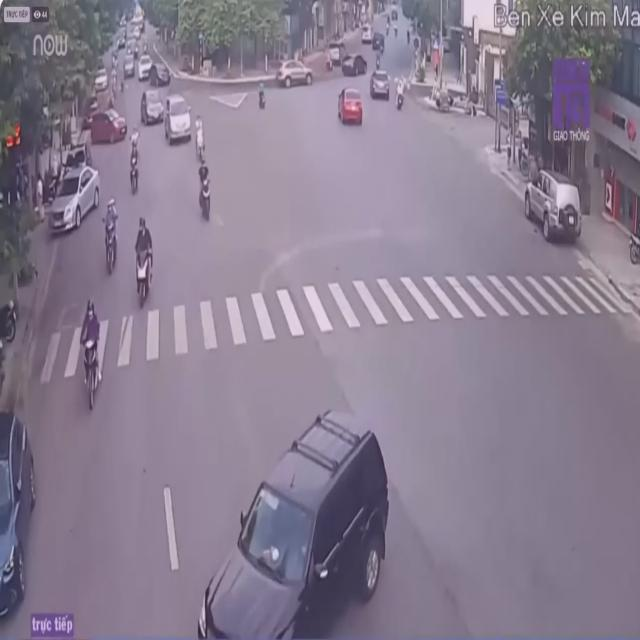car: (202, 403, 396, 635), (0, 407, 37, 613), (526, 168, 580, 238), (49, 166, 102, 236), (164, 95, 192, 141), (337, 86, 366, 128), (370, 66, 391, 102)
motorbike: (76, 298, 104, 417), (133, 218, 156, 312), (101, 202, 120, 276), (197, 159, 214, 222), (128, 147, 139, 195), (194, 116, 205, 159)
